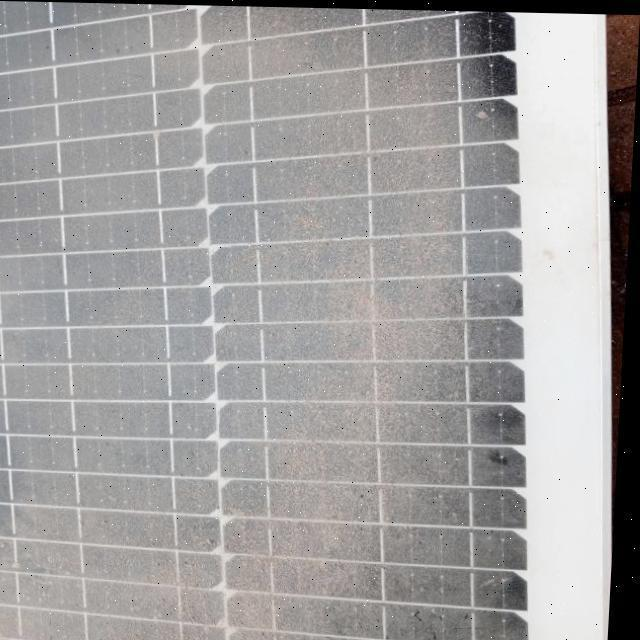Anomaly Solar Panel: (0, 0, 579, 640)
Surface Contaminant: (0, 5, 574, 640)
